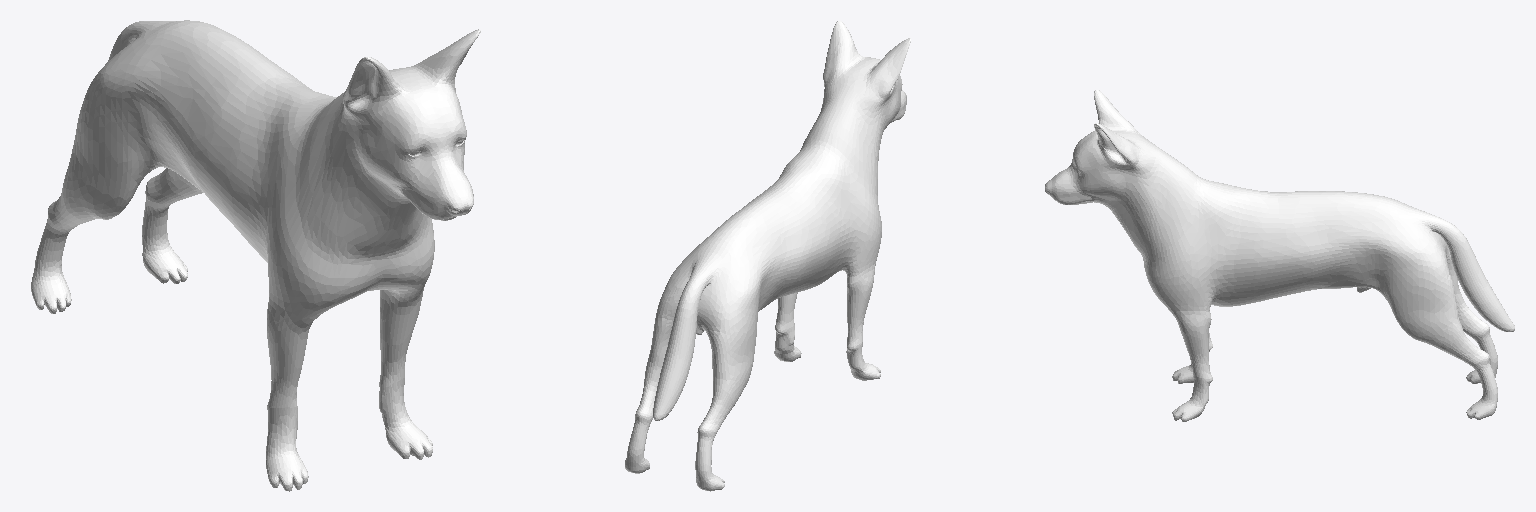
URDF robot description (simple_dog3.obj):
<robot name="simple_dog3.obj">
	<link name="_name">
		<visual>
			<origin xyz="0 0 0" rpy="0 0 0" />
			<geometry>
				<mesh filename="simple_dog3.obj" scale="0.1 0.1 0.1" />
			</geometry>
			<material name="texture">
				<color rgba="1.0 1.0 1.0 1.0" />
			</material>
		</visual>
		<collision>
			<geometry>
				<mesh filename="simple_dog3_vhacd.obj" scale="0.1 0.1 0.1" />
			</geometry>
		</collision>
		<inertial>
			<mass value="1.0" />
			<inertia ixx="1.0" ixy="0.0" ixz="0.0" iyy="1.0" iyz="0.0" izz="1.0" />
		</inertial>
	</link>
</robot>

--- Facts derived from the render (not from the file) ---
The picture shows the robot from 3 angles, left to right: view 1: azimuth 30°, elevation 25°; view 2: azimuth 150°, elevation 25°; view 3: azimuth 270°, elevation 25°; orthographic projection.
Robot: simple_dog3.obj — 1 links, 0 joints (none); root link _name; default pose: all joints at 0.
Links seen in each view (by area): view 1: _name; view 2: _name; view 3: _name.
Link boxes in pixels (bbox=[...]): _name: bbox=[31, 20, 480, 491]; _name: bbox=[625, 21, 910, 491]; _name: bbox=[1045, 90, 1514, 421].
Bounding box of the posed robot: 0.936 × 3.87 × 2.65 m (x, y, z).
Meshes: 1 distinct files referenced, 1 mesh visuals loaded (1 OBJ).